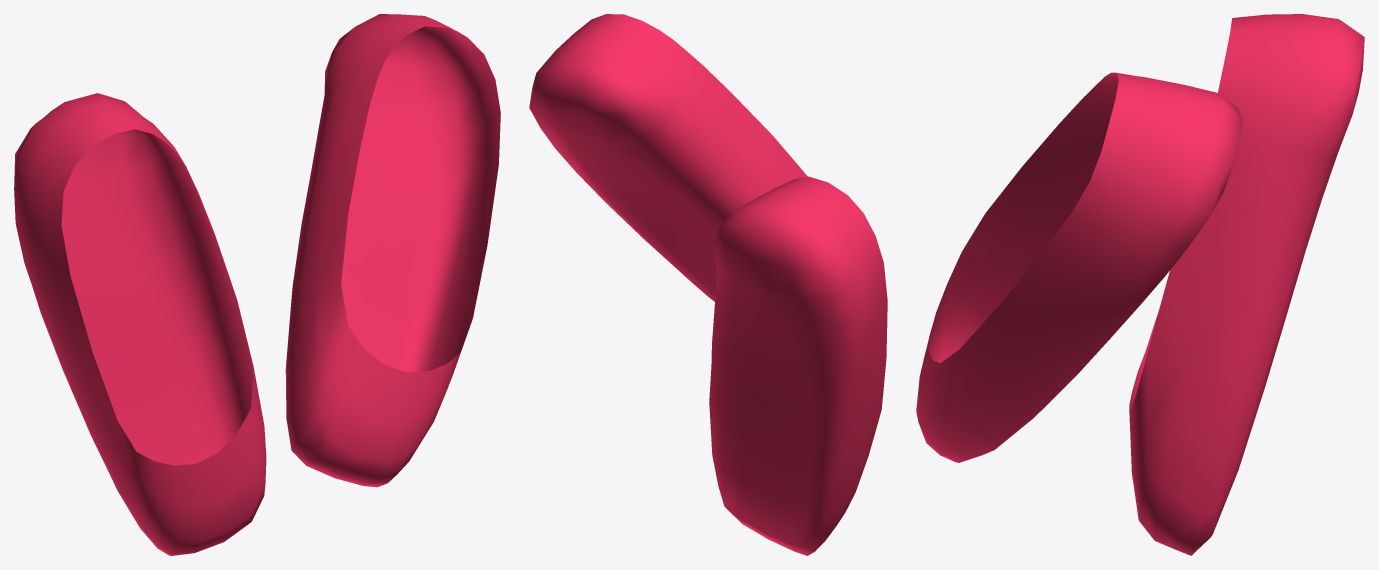
File: BalletShoes.fbx
The picture shows the model from 3 angles, left to right: view 1: azimuth 30°, elevation 25°; view 2: azimuth 150°, elevation 25°; view 3: azimuth 270°, elevation 25°; orthographic projection. The views are drawn at different scales.
Parts seen in each view (by area): view 1: Cylinder003; view 2: Cylinder003; view 3: Cylinder003.
Boxes of the visible parts, left/top/right/bottom form: Cylinder003: left=14, top=14, right=500, bottom=555; Cylinder003: left=529, top=14, right=887, bottom=555; Cylinder003: left=916, top=14, right=1364, bottom=555.
Bounding box in the file's own units: 18.6 × 22.13 × 15.37.
